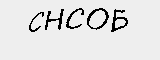Б: (110, 7, 129, 32)
Н: (44, 8, 64, 32)
О: (86, 8, 108, 30)
С: (65, 5, 86, 32), (27, 10, 45, 33)
